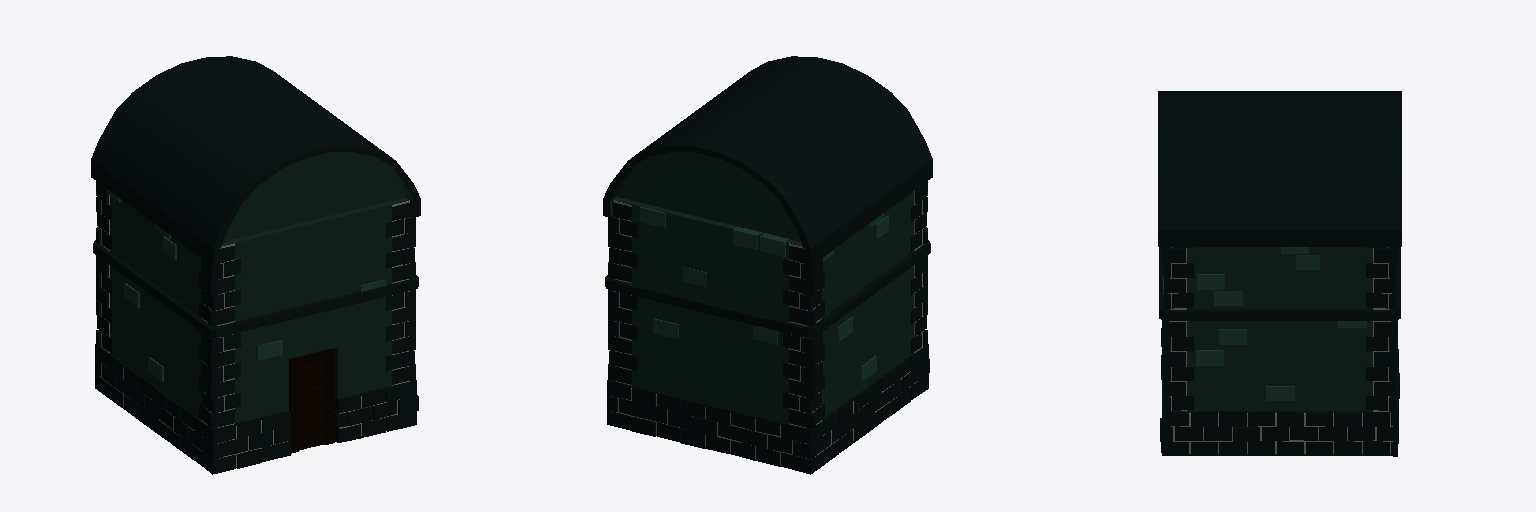
The model's file is 2Story_RoundRoof_Mat.obj.
3 views of the same model, side by side, from view 1: azimuth 30°, elevation 25°; view 2: azimuth 150°, elevation 25°; view 3: azimuth 270°, elevation 25° (orthographic).
Visible parts, largest first — view 1: 2Story_RoundRoof_Mat_Cube.010; view 2: 2Story_RoundRoof_Mat_Cube.010; view 3: 2Story_RoundRoof_Mat_Cube.010.
Boxes of the visible parts, x1,y1,x2,y2 form: 2Story_RoundRoof_Mat_Cube.010: [91, 56, 420, 474]; 2Story_RoundRoof_Mat_Cube.010: [603, 56, 932, 474]; 2Story_RoundRoof_Mat_Cube.010: [1158, 91, 1401, 456].
Size of the model in its own units: 2.11 by 2.9 by 2.13.